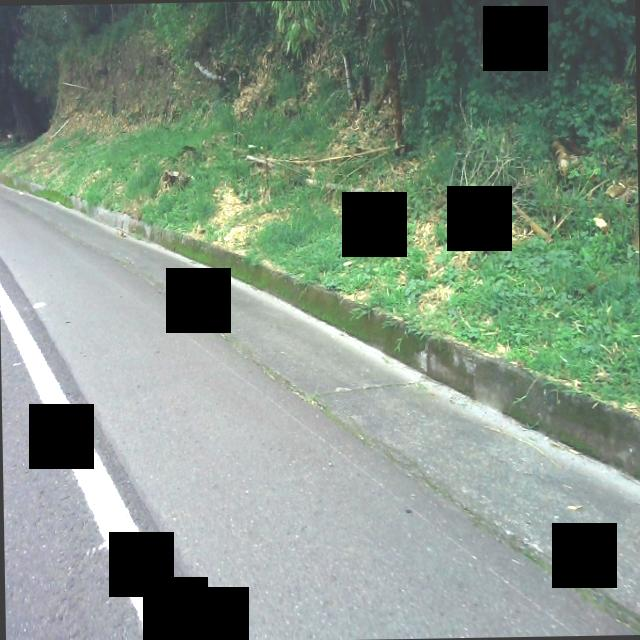DITCH: (0, 136, 640, 640), (0, 147, 640, 640), (0, 171, 640, 640)
